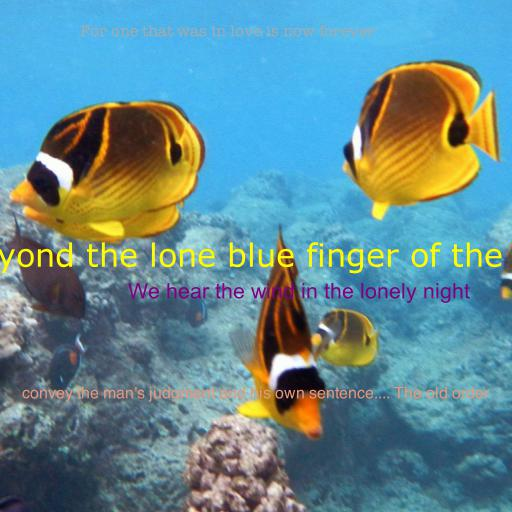American Typewriter: (79, 25, 375, 37)
Arial: (128, 283, 470, 303)
Helvetica: (21, 386, 489, 402)
Verdana: (0, 242, 512, 274)
